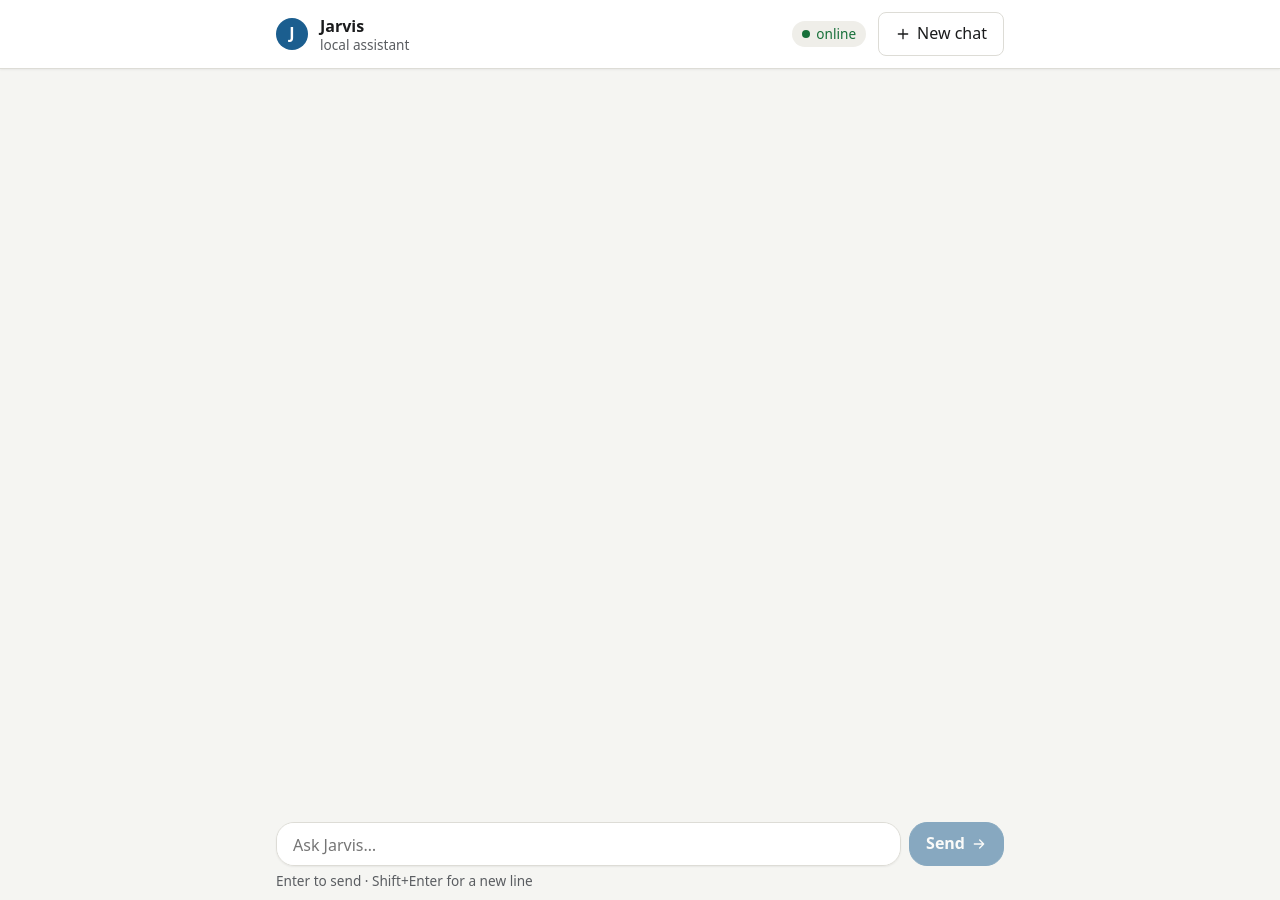
Test case: App with a scripted stream › calls /confirm only when the user clicks a button
Type "time?" into the text box named "Message to Jarvis" at (589, 844), box [276,822,901,866]
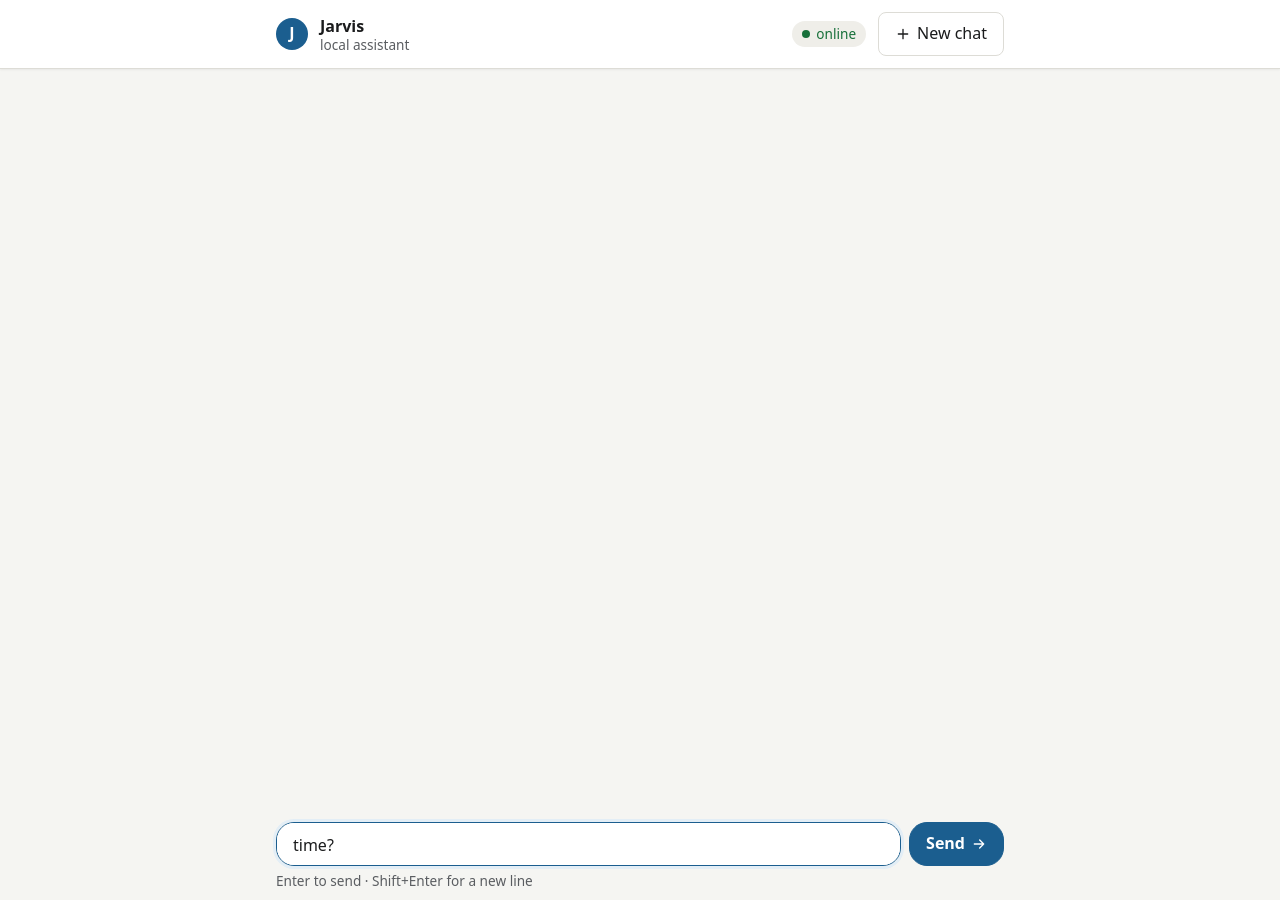
Click the button "Send" at (957, 844), box [909,822,1004,866]
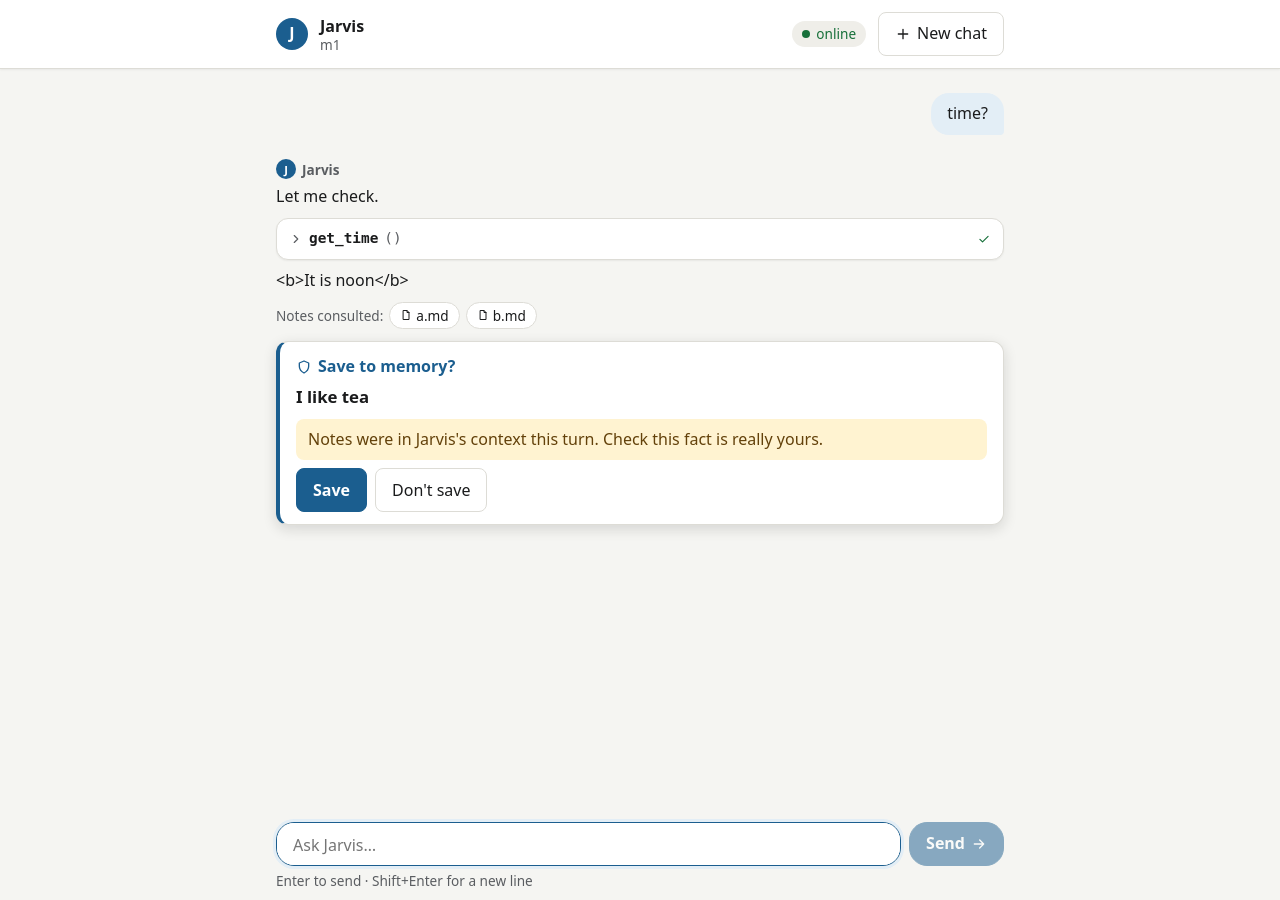
Now the heading "Save to memory?" is shown, box [296,355,455,377]
Click the button "Save" at (332, 490), box [296,468,367,512]
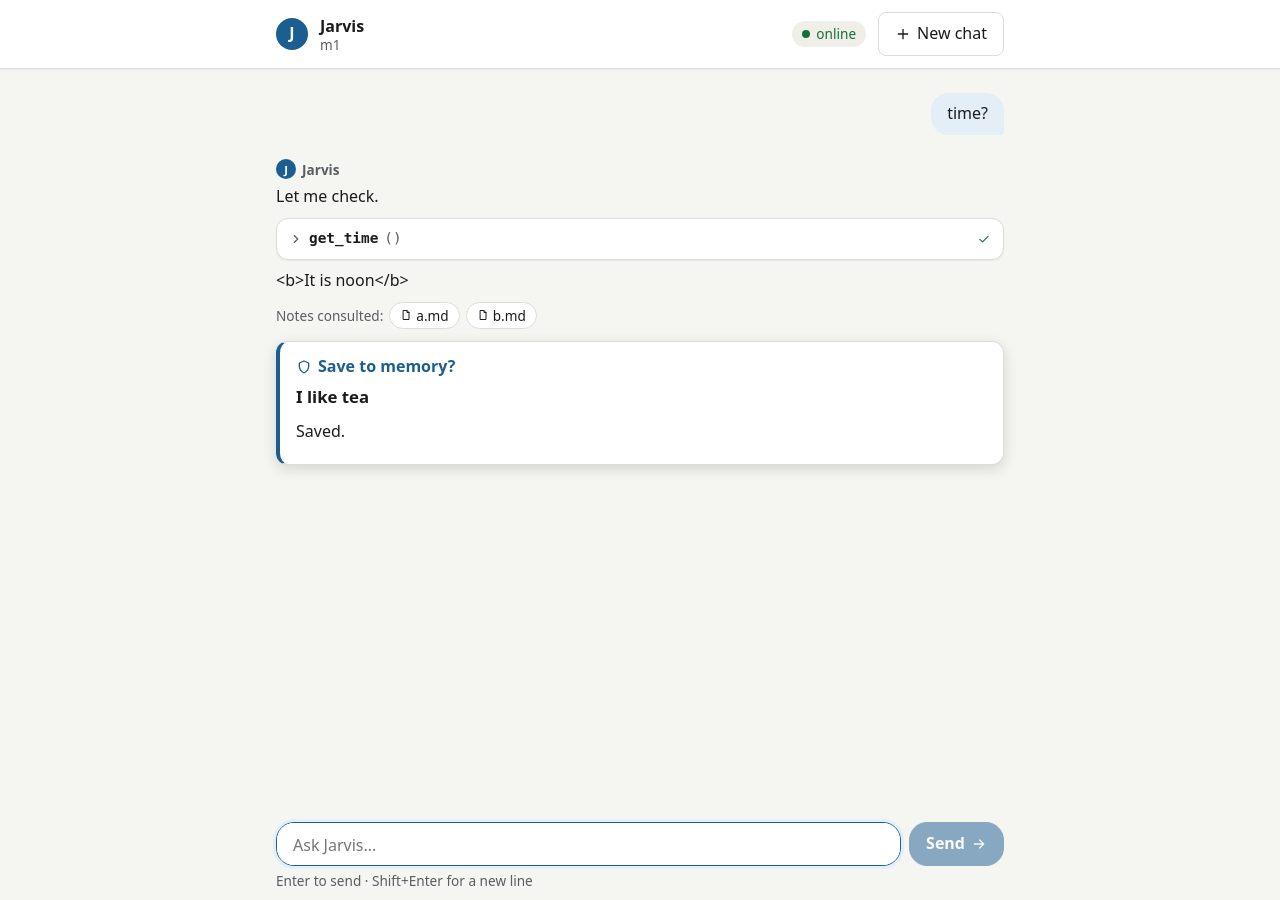
Now the text "Saved." is shown, box [296,420,345,442]
